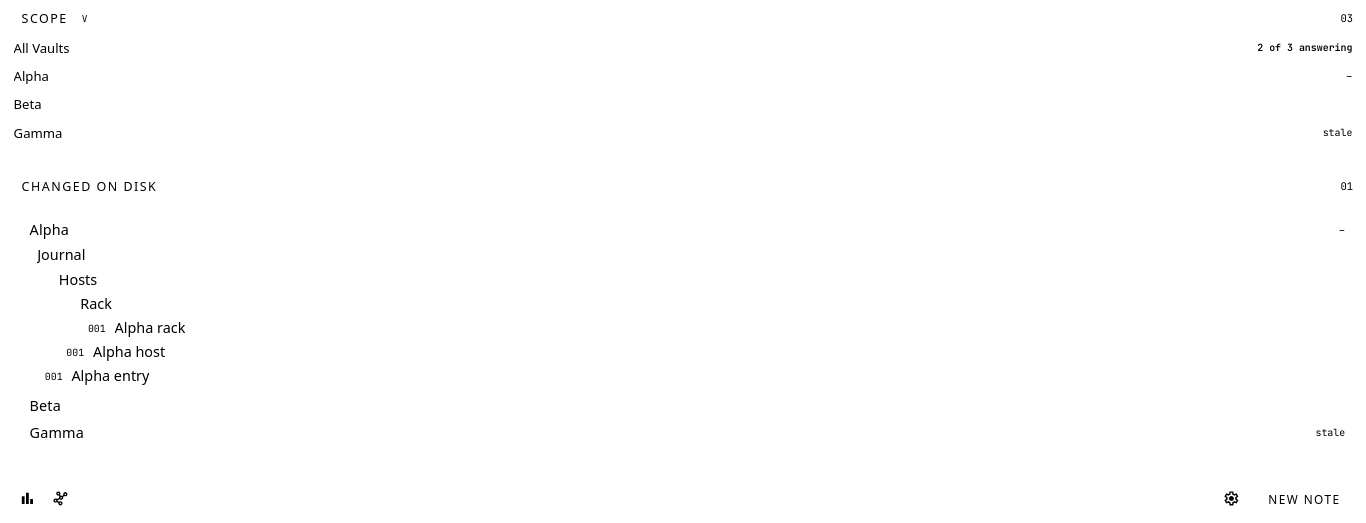
Test: ExplorerPane accordion (#142) › opens nested folders three deep inside an unfolded Vault and keeps them open across unfolding another Vault (#305)
The image size is (1366, 523).
Check: the text "Alpha host" is shown, box [93,342,165,362]
Check: the text "Alpha rack" is shown, box [115,318,185,338]
Click the button "Gamma stale" at (57, 432), box [10,423,1350,442]
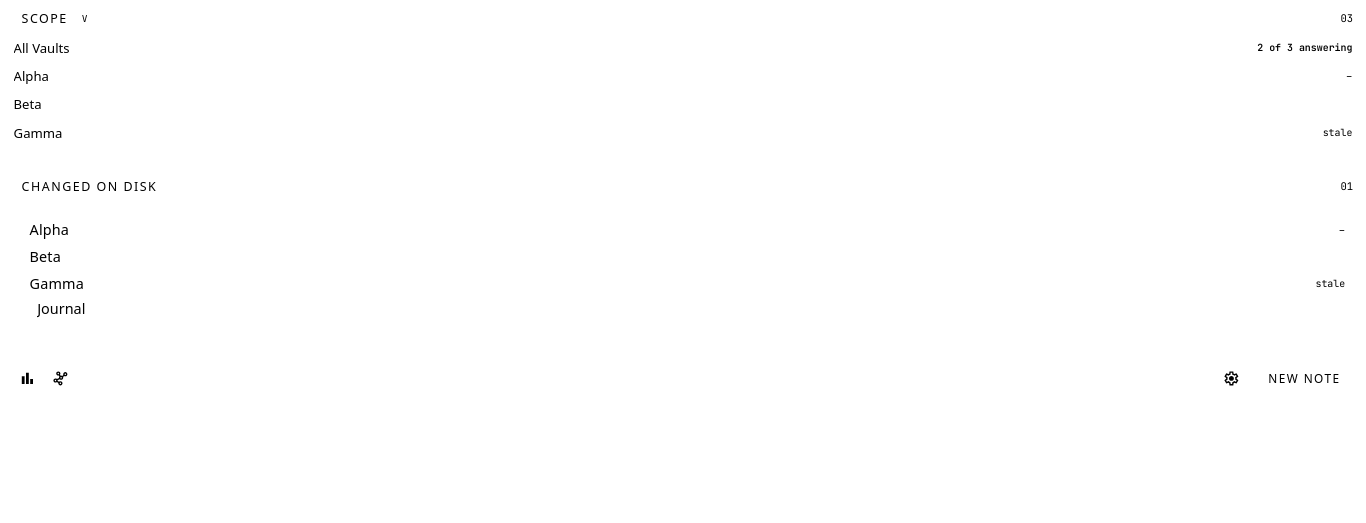
Click the button "Alpha –" at (49, 230), box [10,220,1350,239]
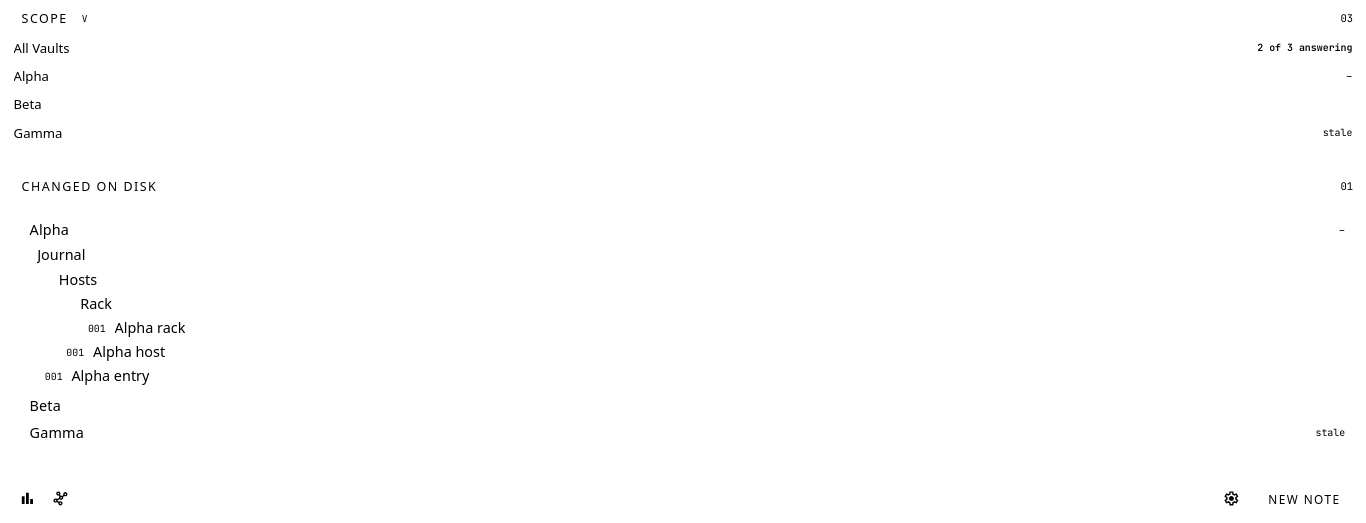
Check: the text "Alpha rack" is shown, box [115,318,185,338]
